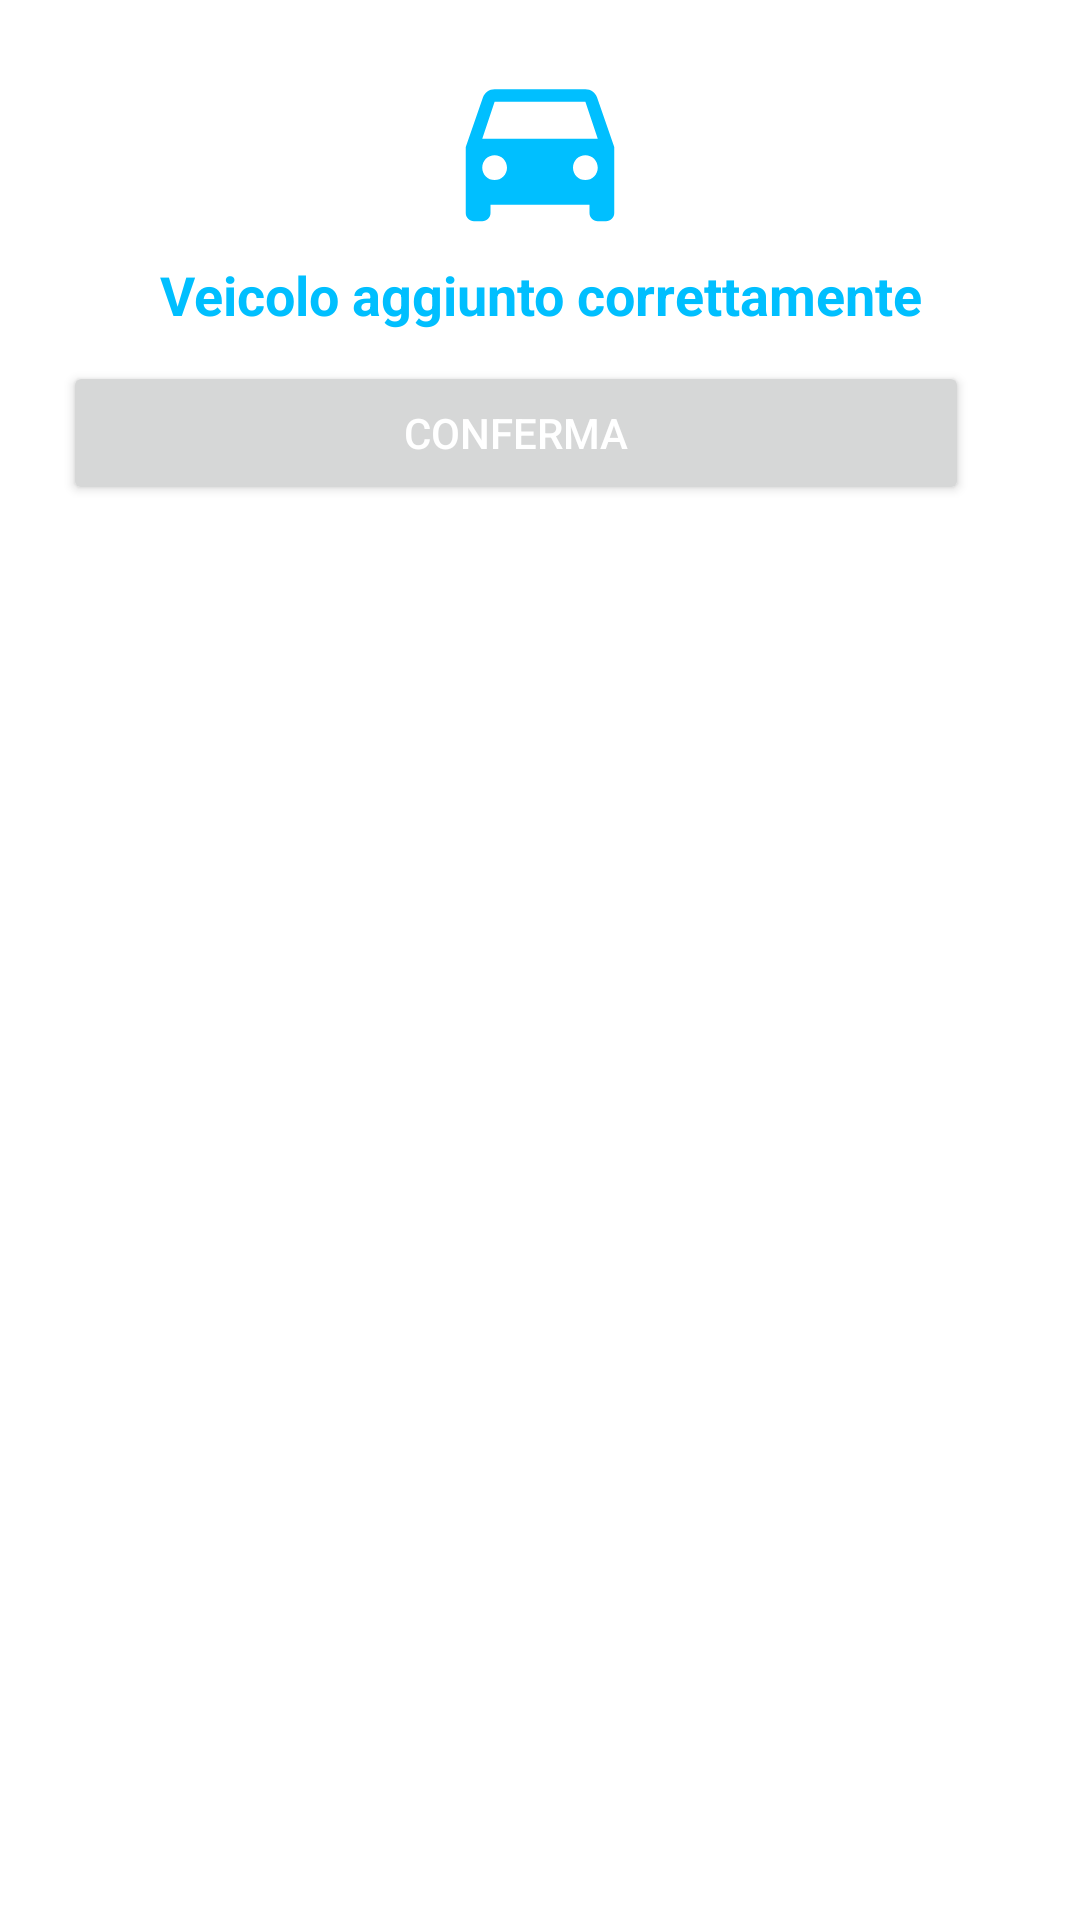

Icons on this 1080×1920 Android screen, each with its box as (x1, y1, x2, y2):
directions car: (465, 89, 615, 222)
